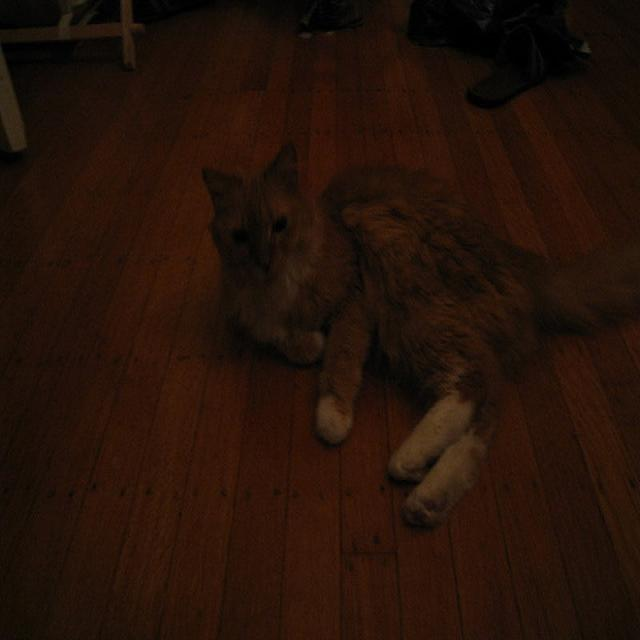Cat: (197, 108, 628, 550)
